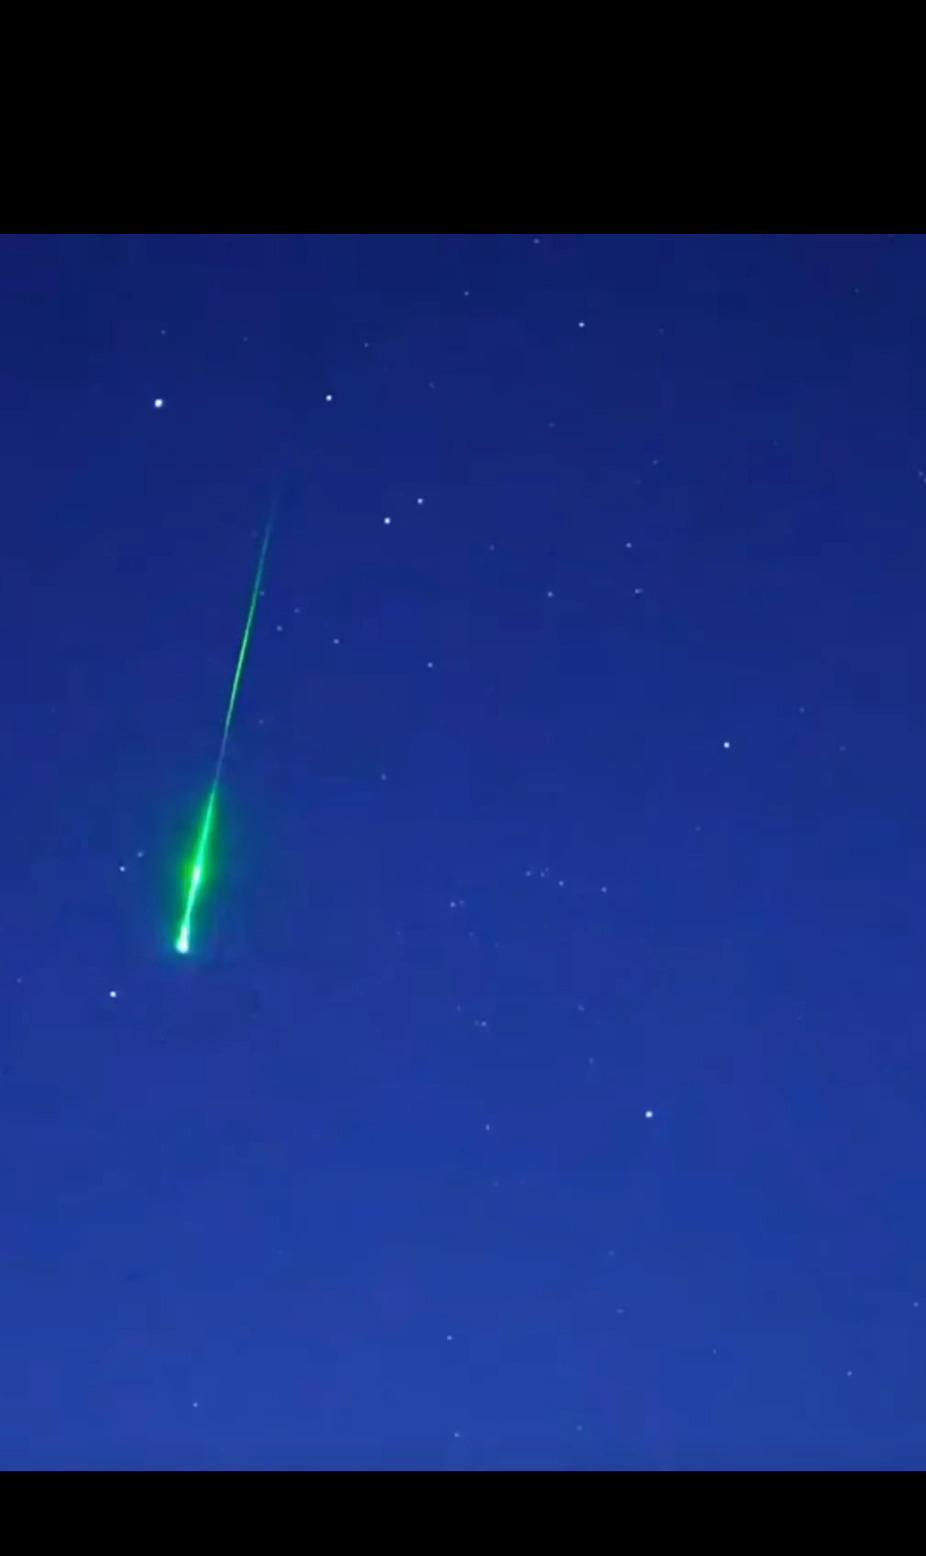meteorite: (146, 479, 297, 977)
